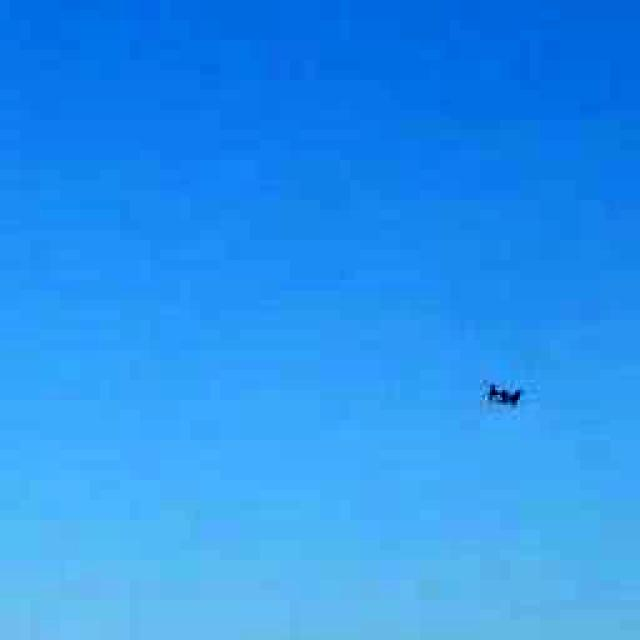bird: (449, 356, 556, 429)
